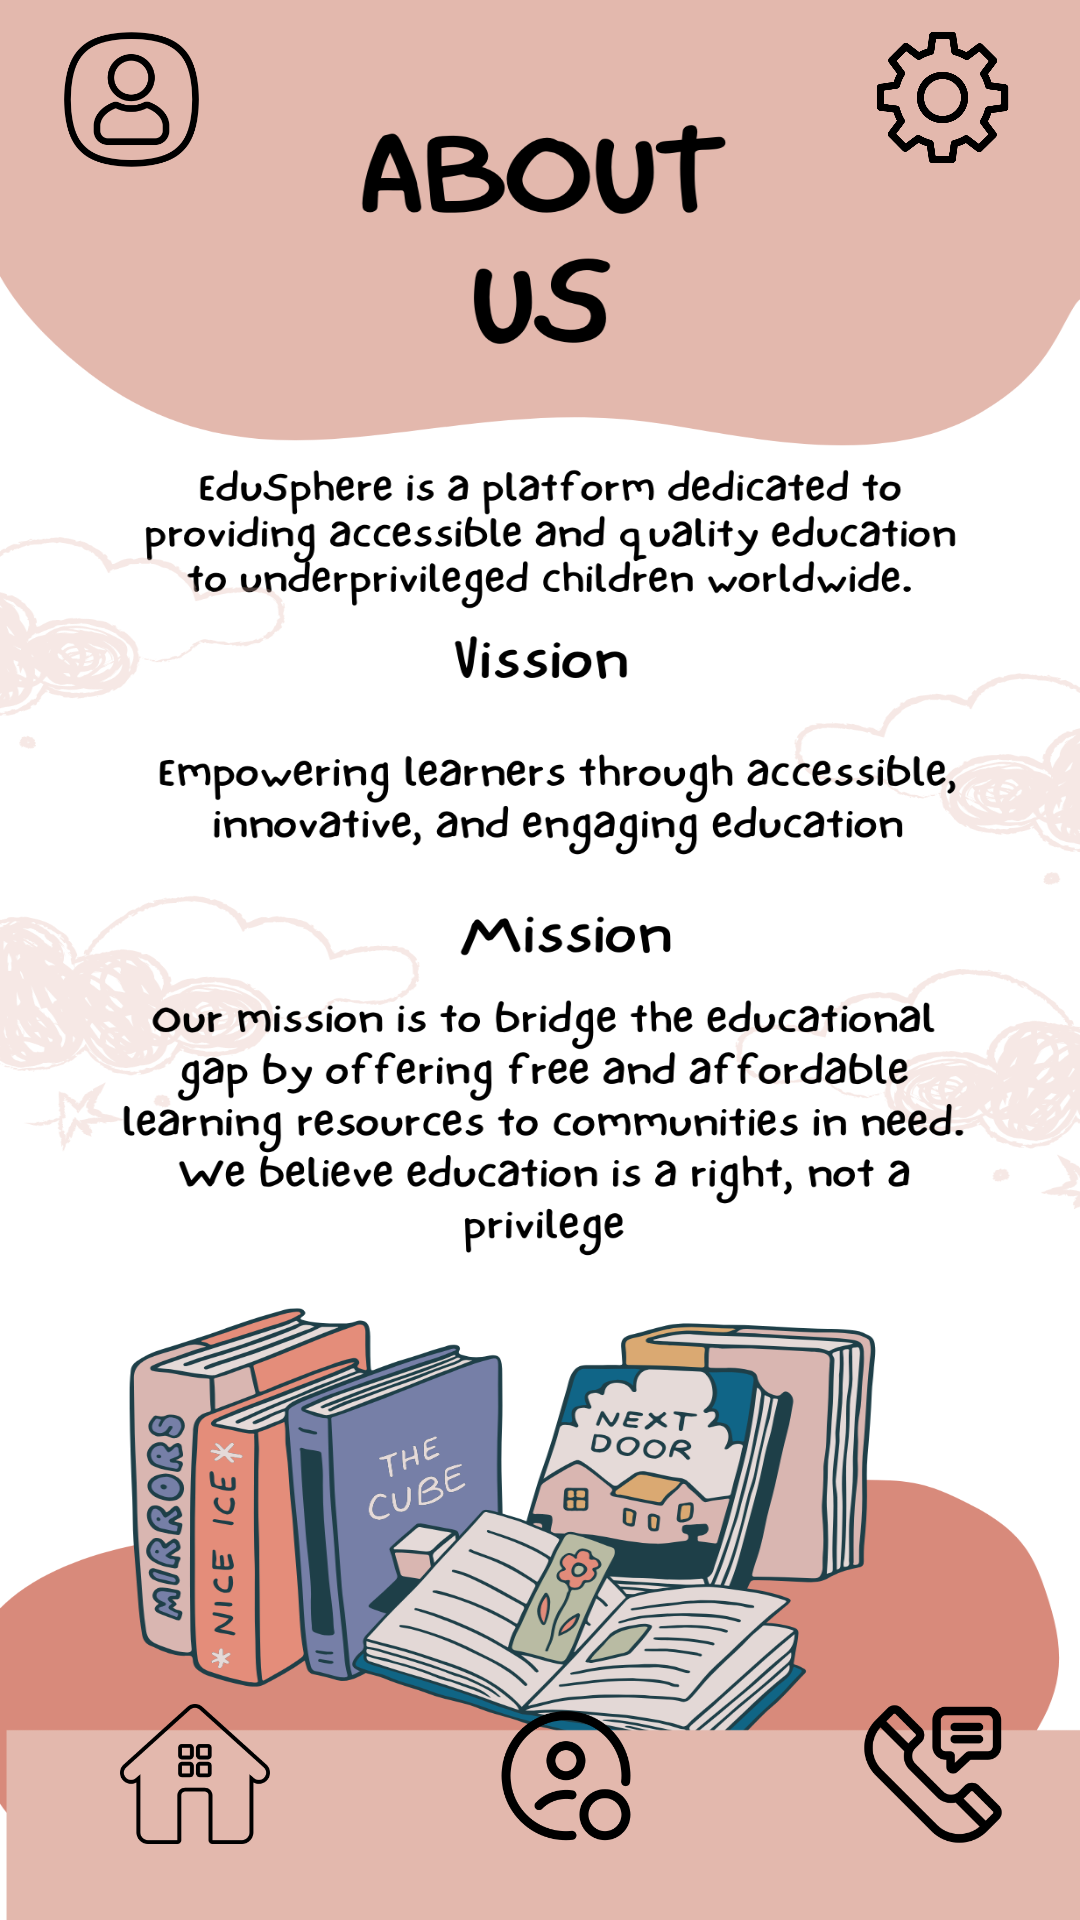

Named icons in this screenshot (1080×1920) and their centers, (x=x, y=y):
homee: (x=195, y=1771)
